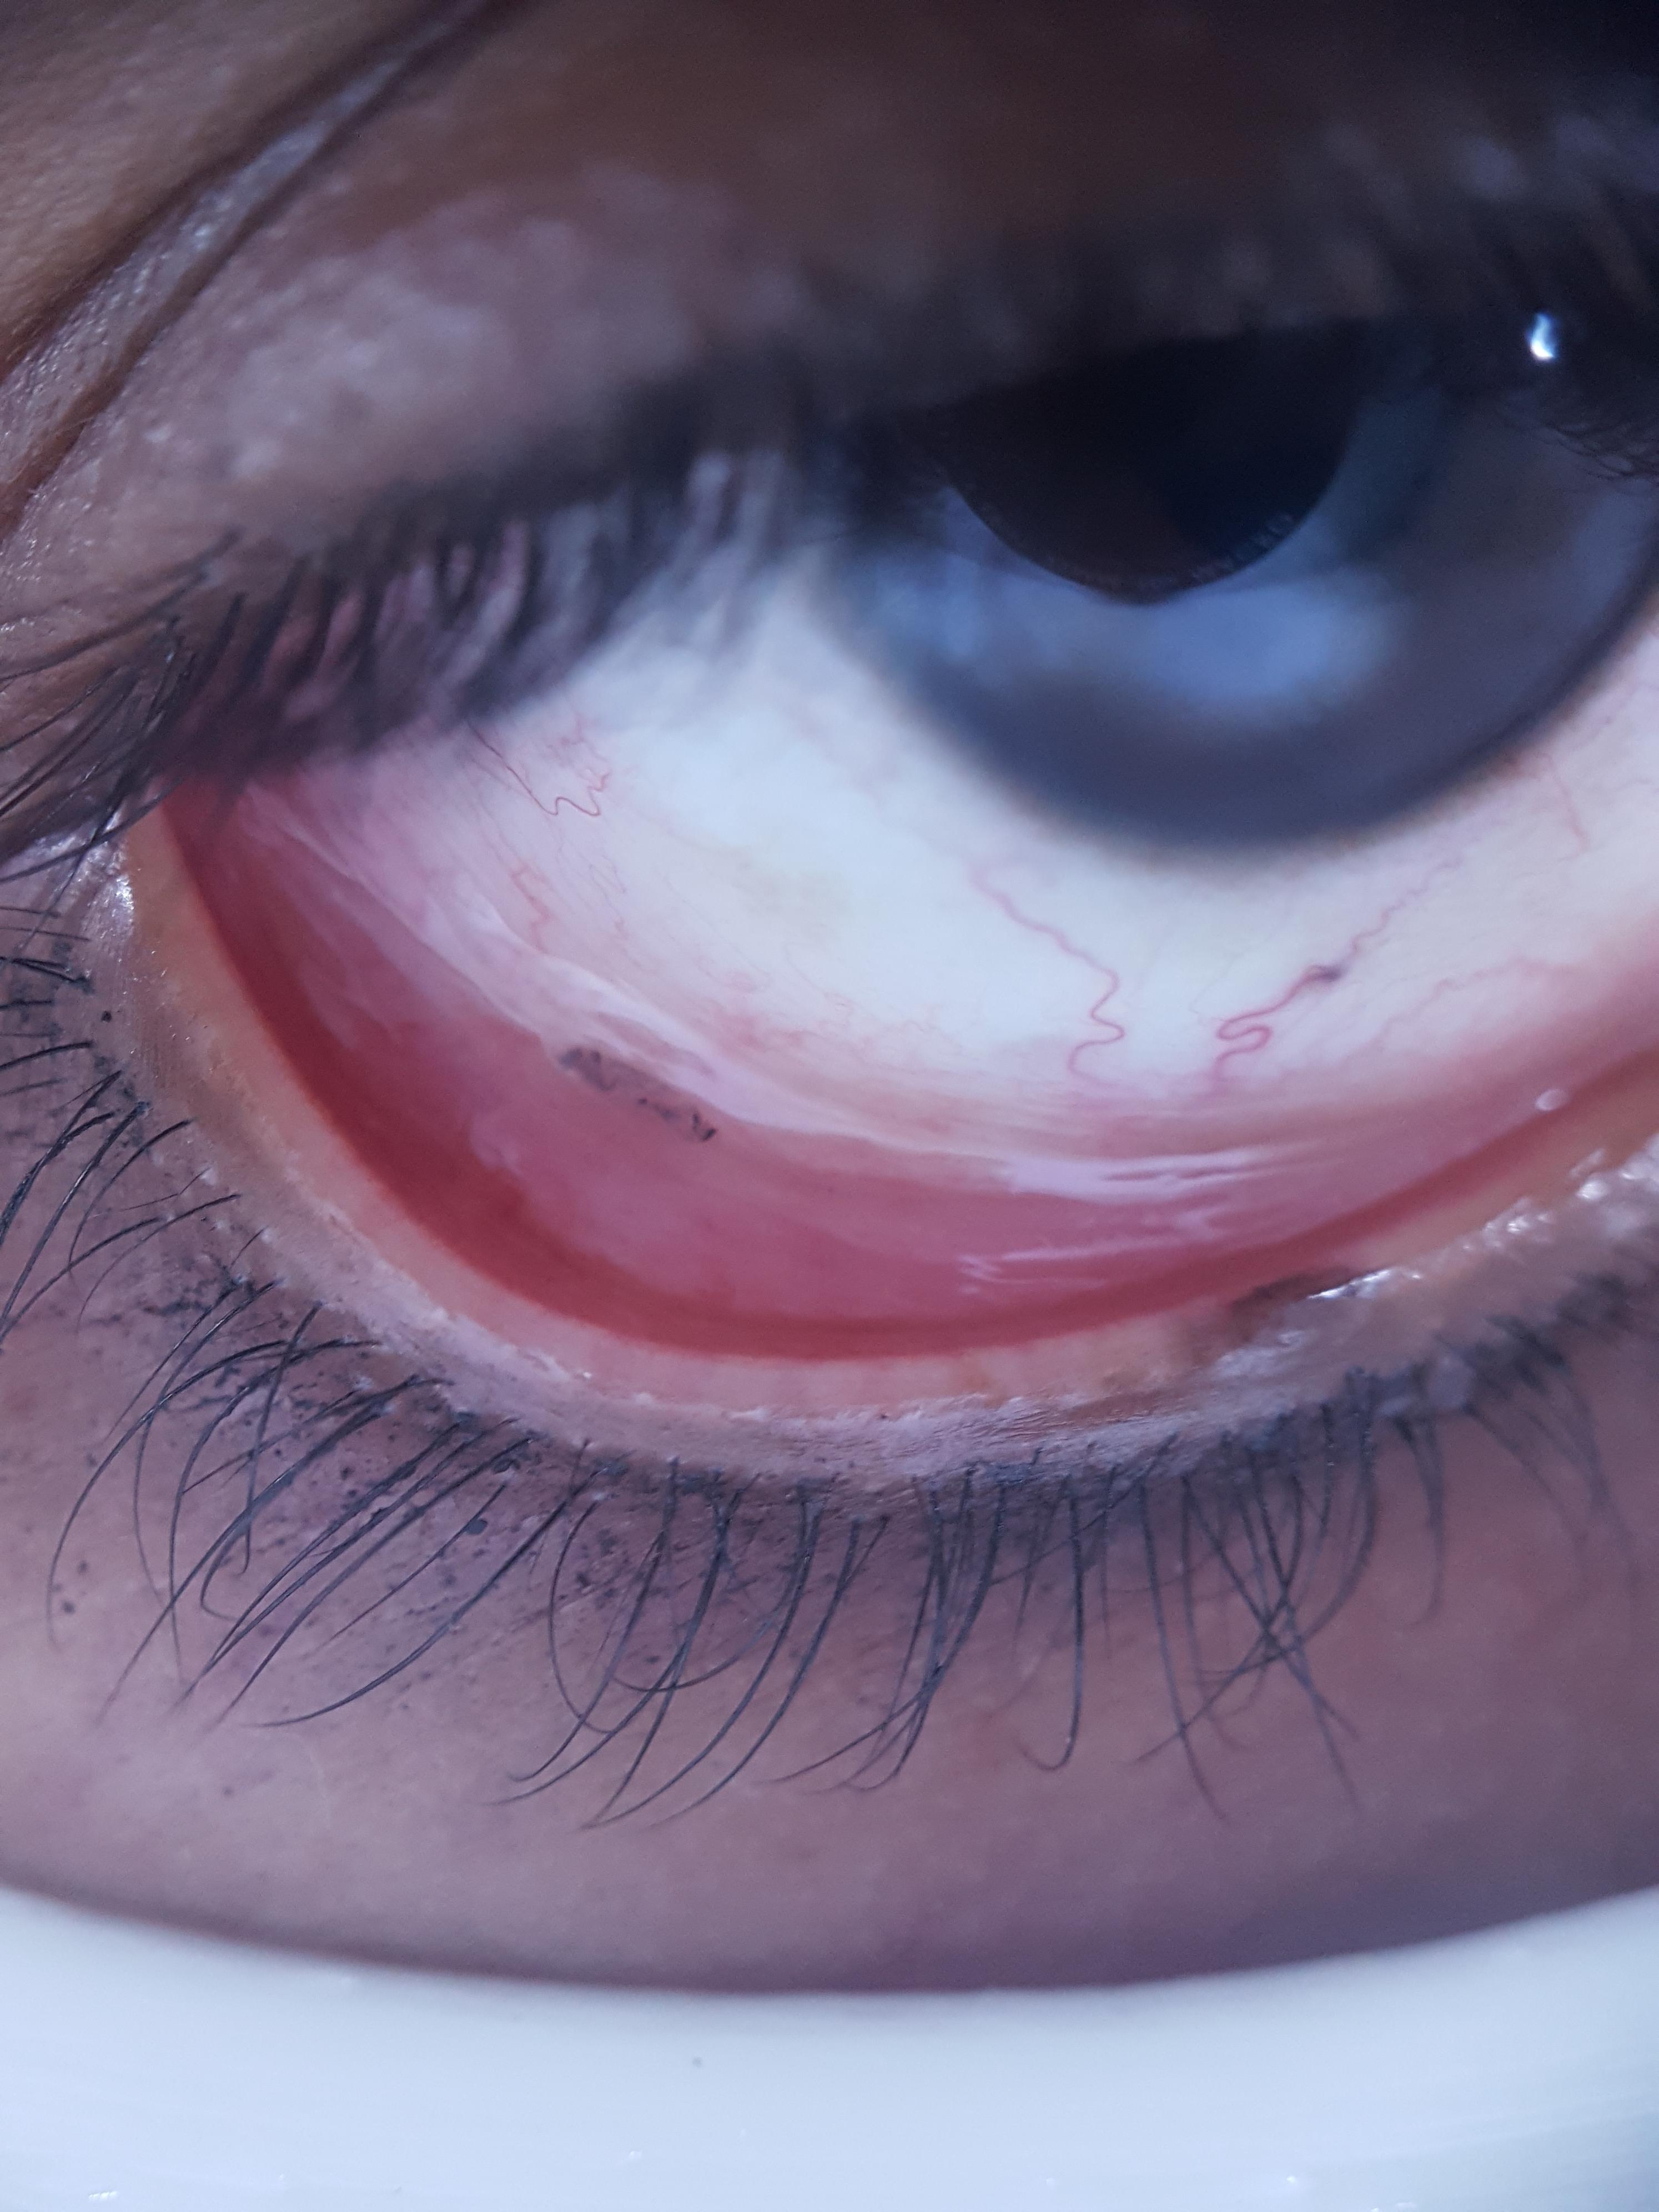forniceal: (253, 805, 1560, 1322)
forniceal_palpebral: (181, 787, 1577, 1371)
palpebral: (188, 826, 1565, 1359)
